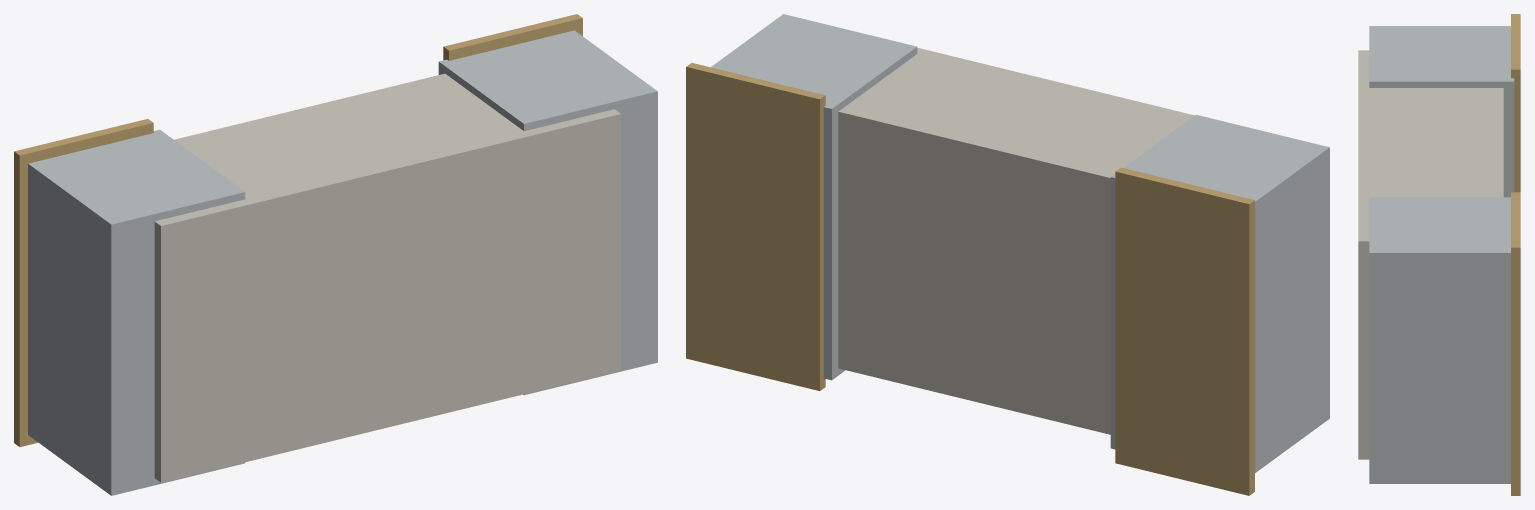
3 renders of one model, left to right at view 1: azimuth 30°, elevation 25°; view 2: azimuth 150°, elevation 25°; view 3: azimuth 270°, elevation 25°, orthographic. The views are drawn at different scales.
Parts seen in each view (by area): view 1: PART_000_Ceramic_Cream, PART_001_Lead_Tin, PART_003_Lead_Tin, PART_002_Copper_Gold, PART_004_Copper_Gold; view 2: PART_000_Ceramic_Cream, PART_002_Copper_Gold, PART_004_Copper_Gold, PART_001_Lead_Tin, PART_003_Lead_Tin; view 3: PART_003_Lead_Tin, PART_000_Ceramic_Cream, PART_001_Lead_Tin, PART_004_Copper_Gold, PART_002_Copper_Gold.
Part boxes in pixels (bbox=[...]): PART_000_Ceramic_Cream: bbox=[154, 73, 620, 482]; PART_001_Lead_Tin: bbox=[28, 129, 245, 495]; PART_003_Lead_Tin: bbox=[438, 30, 657, 395]; PART_002_Copper_Gold: bbox=[14, 119, 153, 446]; PART_004_Copper_Gold: bbox=[443, 14, 582, 60]; PART_000_Ceramic_Cream: bbox=[838, 47, 1194, 434]; PART_002_Copper_Gold: bbox=[1115, 167, 1254, 495]; PART_004_Copper_Gold: bbox=[686, 63, 825, 390]; PART_001_Lead_Tin: bbox=[1110, 114, 1329, 472]; PART_003_Lead_Tin: bbox=[711, 14, 917, 380]; PART_003_Lead_Tin: bbox=[1369, 197, 1510, 483]; PART_000_Ceramic_Cream: bbox=[1358, 50, 1503, 459]; PART_001_Lead_Tin: bbox=[1369, 26, 1514, 197]; PART_004_Copper_Gold: bbox=[1511, 192, 1520, 495]; PART_002_Copper_Gold: bbox=[1511, 14, 1520, 192].
Size of the model in its own units: 0.00202 by 0.001 by 0.000592.
